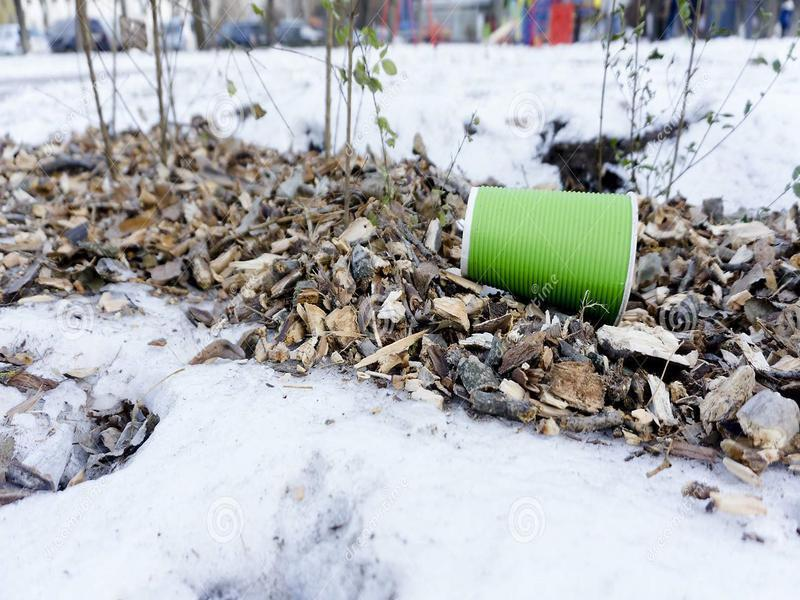cup: (443, 174, 654, 331)
